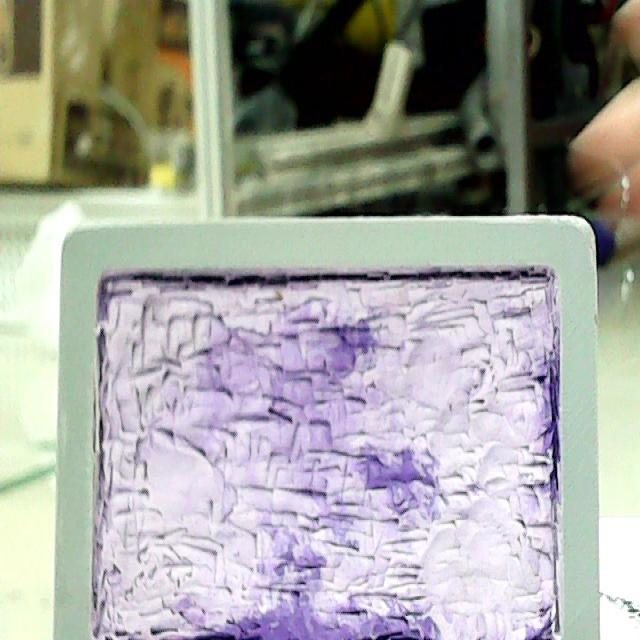block: (43, 214, 610, 640)
